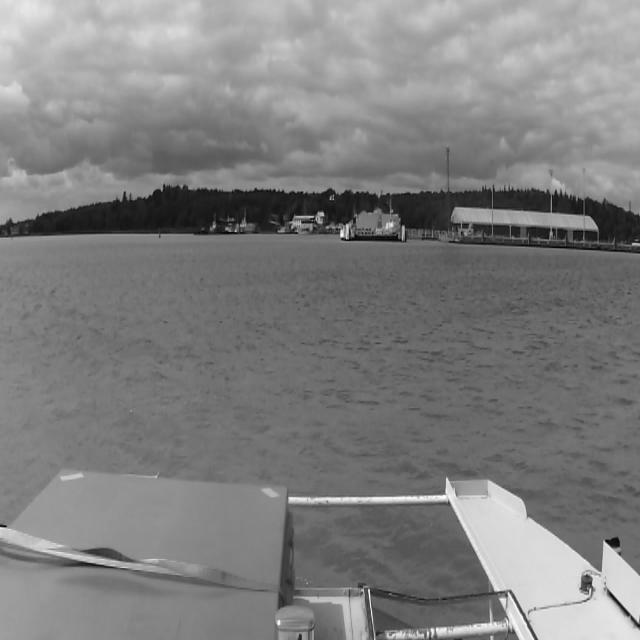buoy: (159, 228, 161, 238)
ship: (186, 212, 226, 238), (233, 219, 254, 232), (223, 218, 234, 234)
